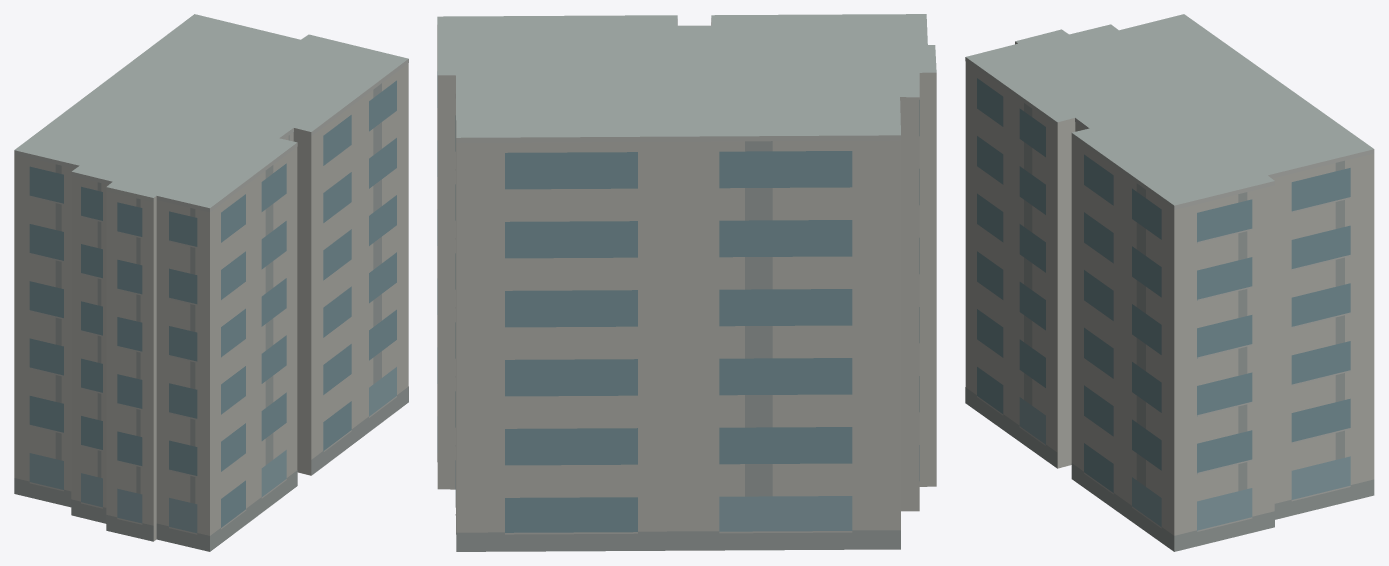
File: survey-upis-32646785.glb
3 views of the same model, side by side, from view 1: azimuth 30°, elevation 25°; view 2: azimuth 150°, elevation 25°; view 3: azimuth 270°, elevation 25° (orthographic). The views are drawn at different scales.
Parts seen in each view (by area): view 1: survey-upis-32646785.tmp; view 2: survey-upis-32646785.tmp; view 3: survey-upis-32646785.tmp.
Part boxes in pixels (x1,y1,x2,y2): survey-upis-32646785.tmp: (14,14,408,551); survey-upis-32646785.tmp: (437,14,936,551); survey-upis-32646785.tmp: (965,14,1374,551).
Size of the model in its own units: 23.56 by 19.85 by 21.25.
